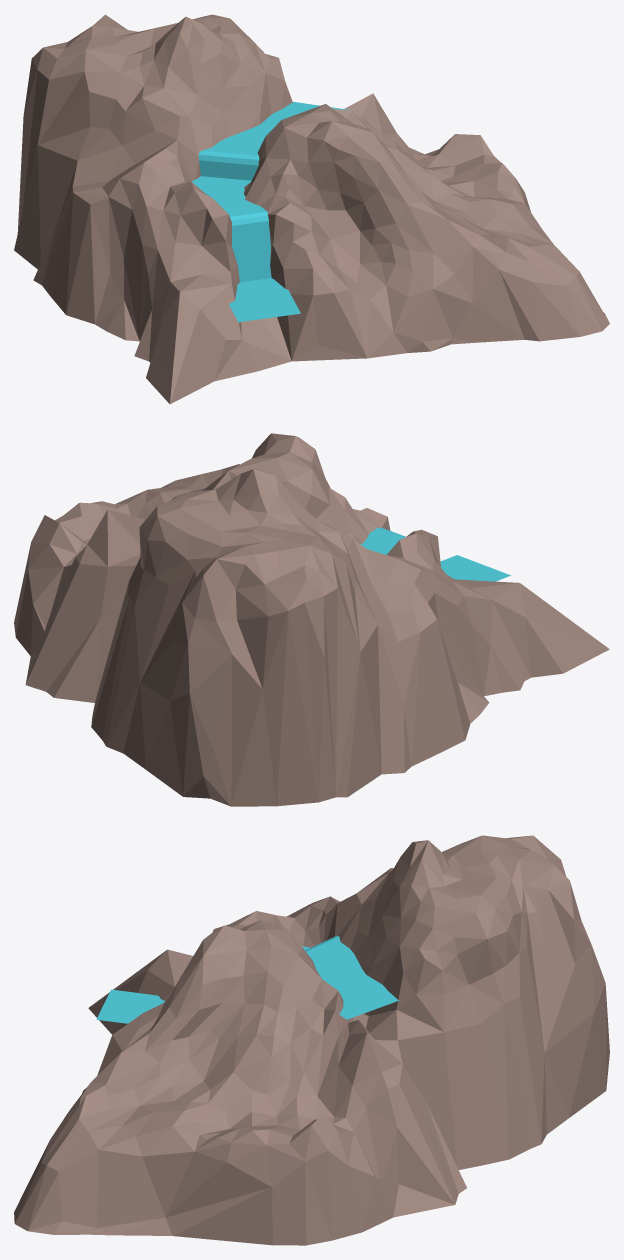
Rendered from mountain_005.fbx.
3 views of the same model, one above another, from view 1: azimuth 30°, elevation 25°; view 2: azimuth 150°, elevation 25°; view 3: azimuth 270°, elevation 25° (orthographic). The views are drawn at different scales.
Parts seen in each view (by area): view 1: mountain.005; view 2: mountain.005; view 3: mountain.005.
Part boxes in pixels (<box>): mountain.005: <box>14,14,609,404</box>; mountain.005: <box>14,433,609,806</box>; mountain.005: <box>14,835,609,1245</box>.
Size of the model in its own units: 4676 by 2384 by 4960.
1 material, 1 textured.
